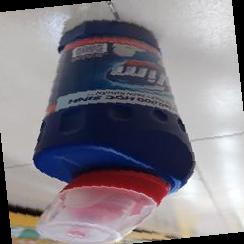vim blue: (31, 19, 197, 242)
